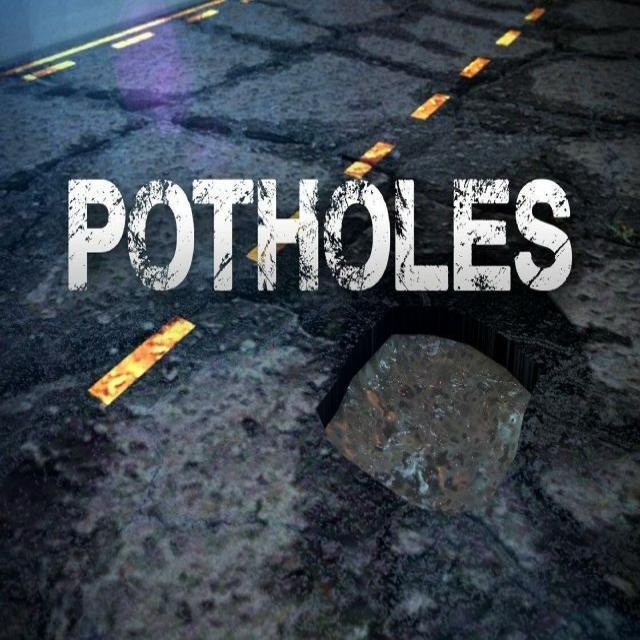Buraco: (305, 304, 640, 607)
